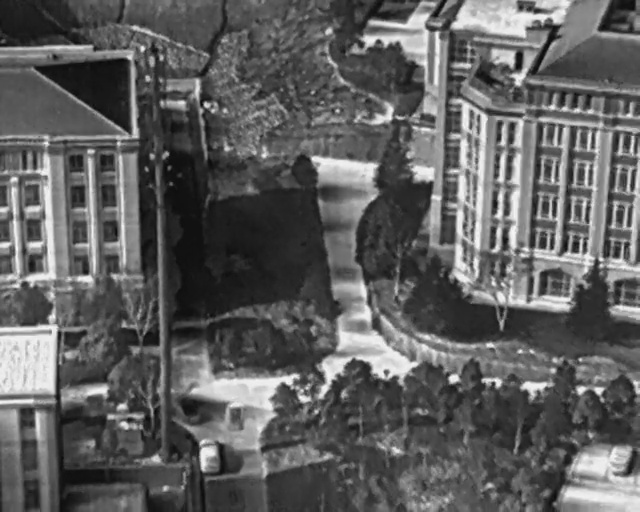Car: (197, 434, 219, 477), (223, 402, 243, 434)
